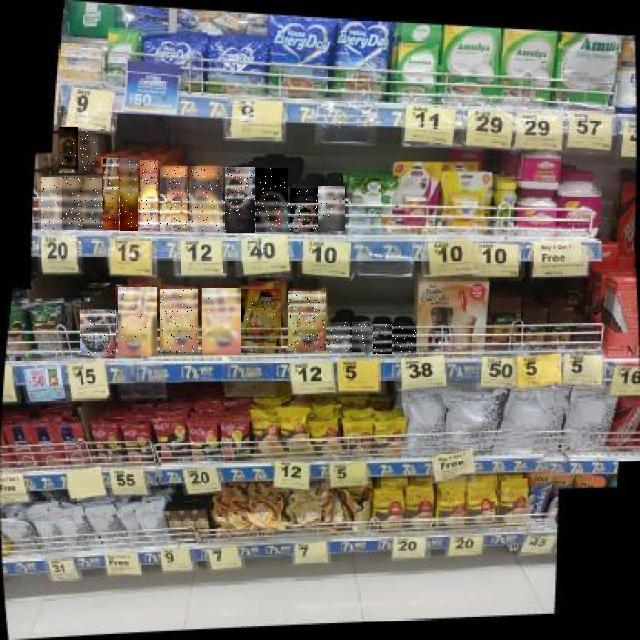Coffee: (118, 287, 157, 356), (202, 288, 241, 355), (241, 289, 281, 353), (160, 290, 198, 354), (288, 291, 326, 351), (189, 166, 223, 231), (257, 168, 289, 232), (225, 167, 255, 233), (160, 166, 188, 232), (81, 310, 117, 356), (120, 158, 138, 231), (290, 188, 318, 232), (140, 161, 158, 229), (318, 186, 345, 231), (103, 158, 119, 230), (42, 177, 64, 229), (81, 178, 102, 228), (63, 176, 82, 230), (59, 127, 78, 173), (80, 131, 98, 172), (328, 322, 350, 352), (395, 326, 417, 354), (353, 322, 373, 352), (373, 324, 392, 354)
